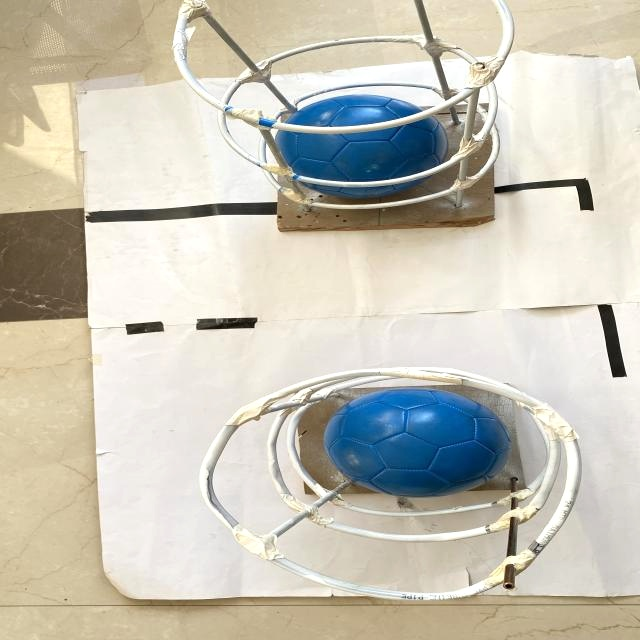blue_ball: (325, 386, 514, 492), (266, 97, 459, 195)
silo: (198, 366, 582, 600), (169, 0, 526, 223)
